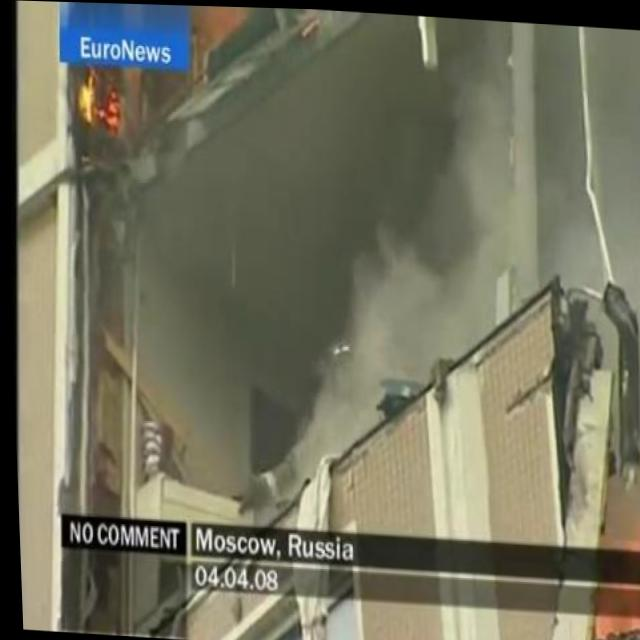fire: (71, 62, 125, 136)
